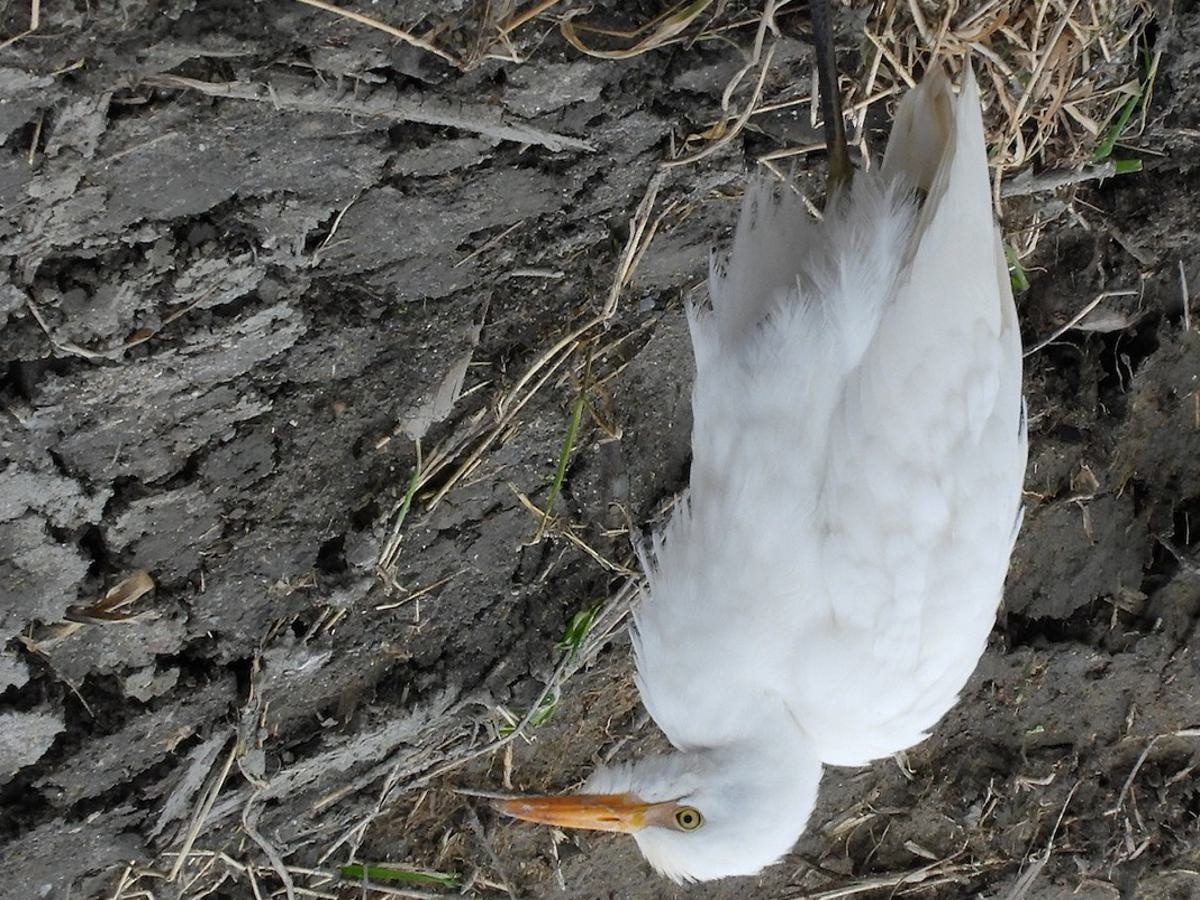egret: (488, 46, 1051, 878)
